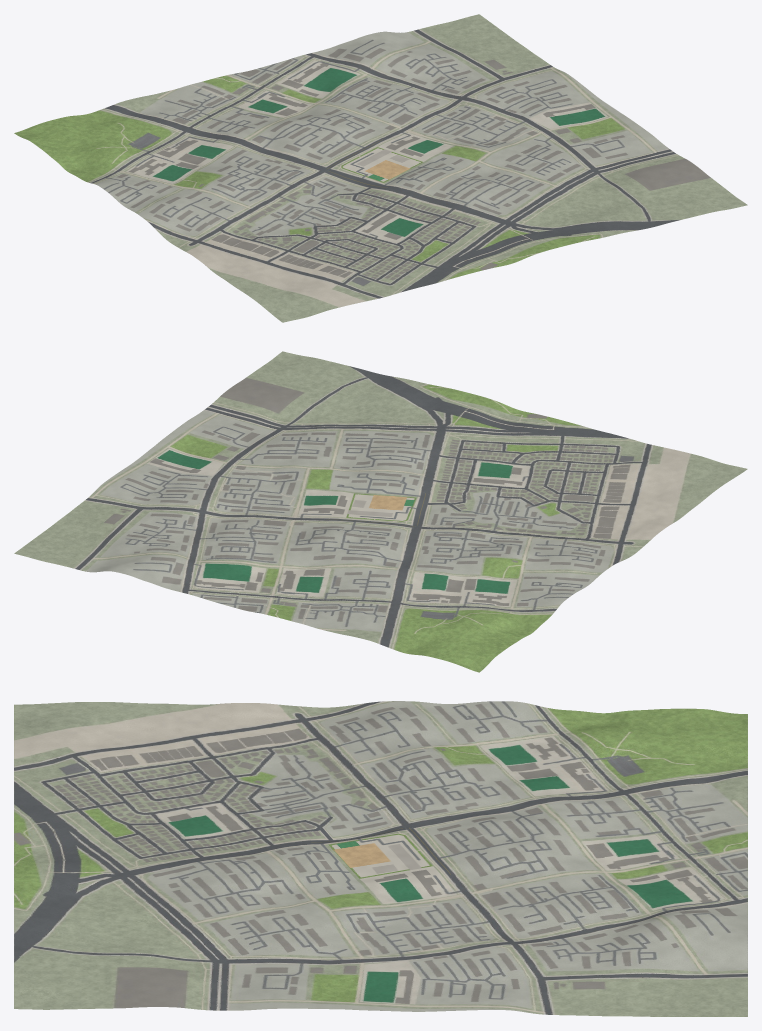
The picture shows the model from 3 angles, top to bottom: view 1: azimuth 30°, elevation 25°; view 2: azimuth 150°, elevation 25°; view 3: azimuth 270°, elevation 25°; orthographic projection. The views are drawn at different scales.
Visible parts, largest first — view 1: ground-area, ground-school; view 2: ground-area, ground-school; view 3: ground-area, ground-school.
Part boxes in pixels (box(x1,y1,x2,y2)): ground-area: box(14, 14, 747, 322); ground-school: box(311, 136, 452, 195); ground-area: box(14, 351, 747, 672); ground-school: box(309, 474, 450, 537); ground-area: box(14, 701, 747, 1016); ground-school: box(311, 826, 450, 887).
Bounding box in the file's own units: 1088 × 35.91 × 1088.
2 materials, 2 textured.
